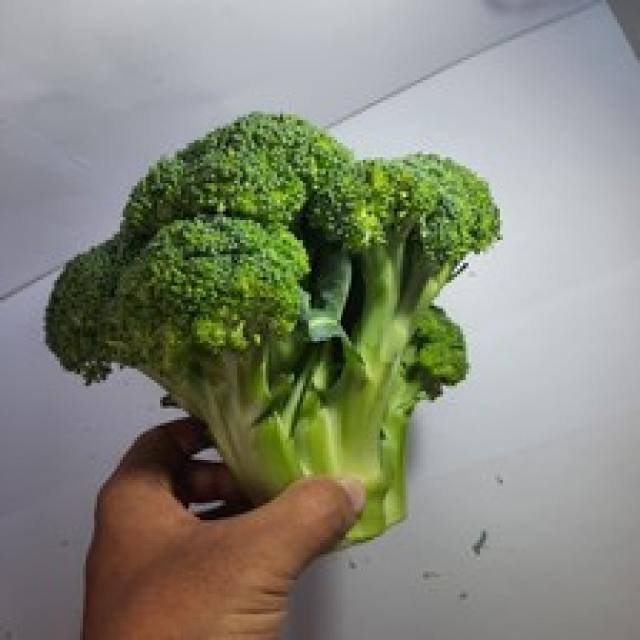Broccoli: (48, 114, 499, 542)
